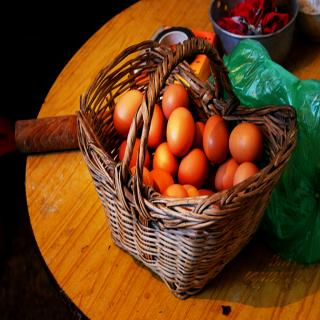Egg: (112, 82, 264, 208)
